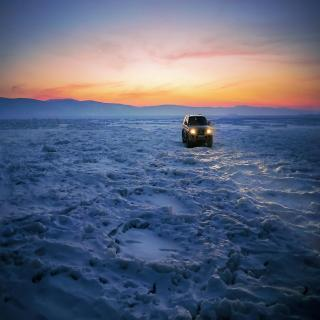Normal_vehicle: (182, 113, 214, 150)
